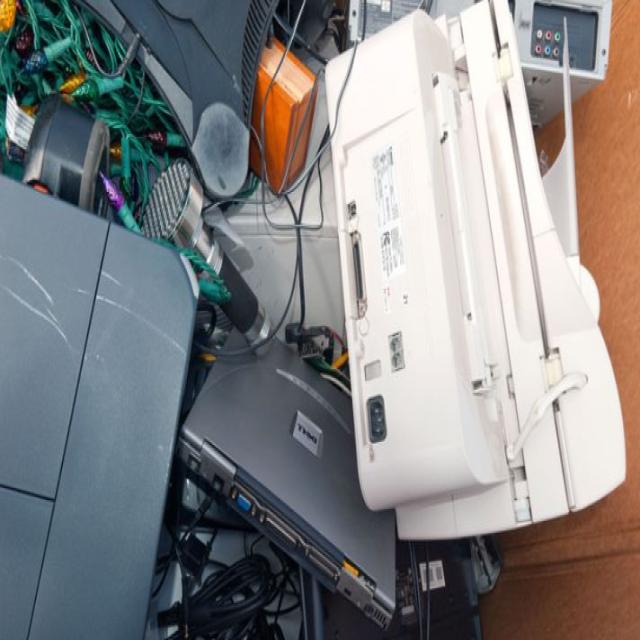electronic: (304, 0, 640, 556), (147, 273, 425, 637)
